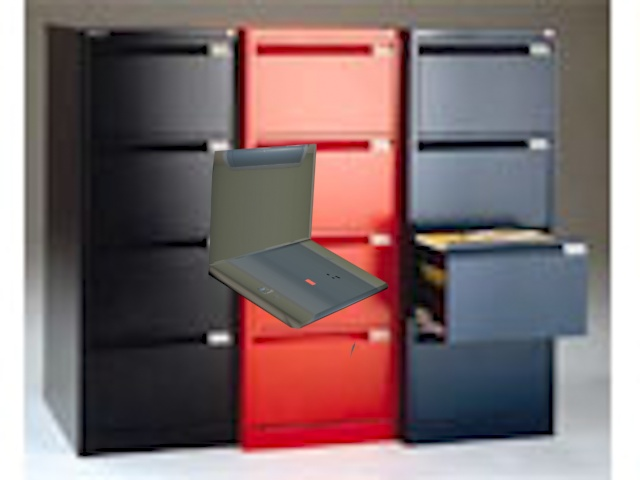laptop_computer: (208, 137, 394, 360)
